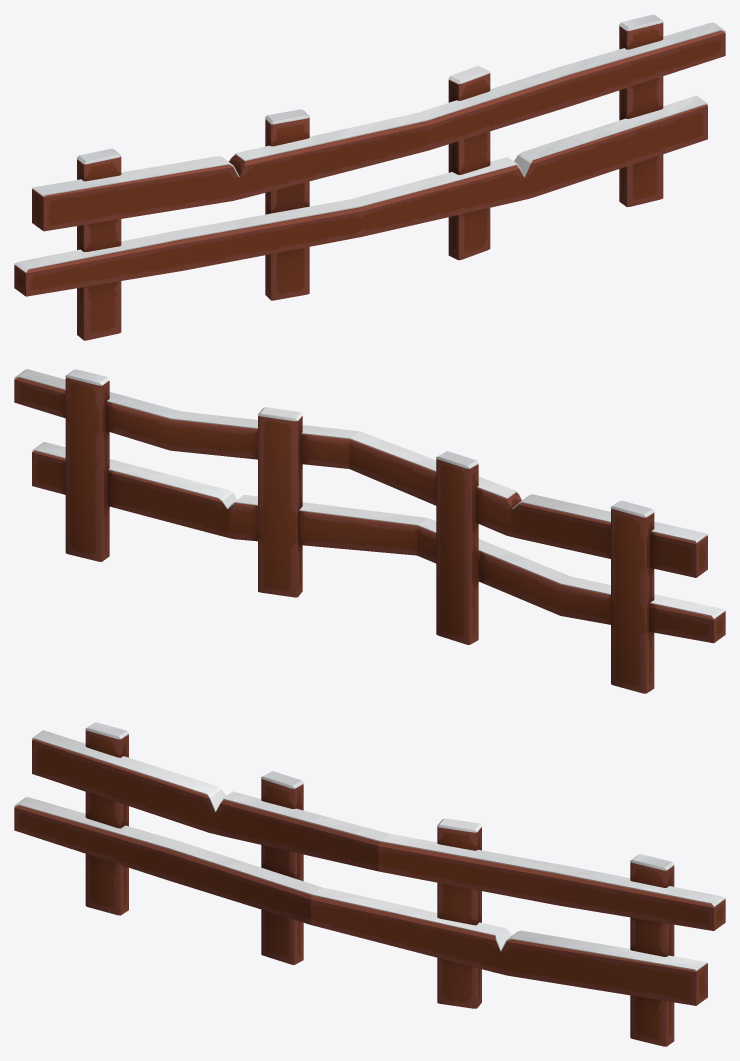
File: Fence.fbx
3 views of the same model, one above another, from view 1: azimuth 30°, elevation 25°; view 2: azimuth 150°, elevation 25°; view 3: azimuth 330°, elevation 25° (orthographic).
Parts seen in each view (by area): view 1: Fence; view 2: Fence; view 3: Fence.
Part boxes in pixels (<box>): Fence: <box>14,14,725,340</box>; Fence: <box>14,369,725,693</box>; Fence: <box>14,722,725,1046</box>.
Bounding box in the file's own units: 161 × 39.28 × 14.06.
